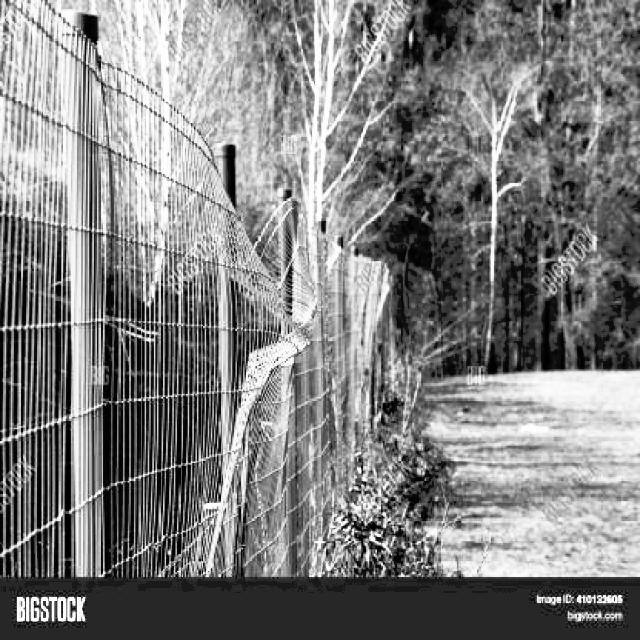anomaly-fence: (178, 68, 368, 559)
